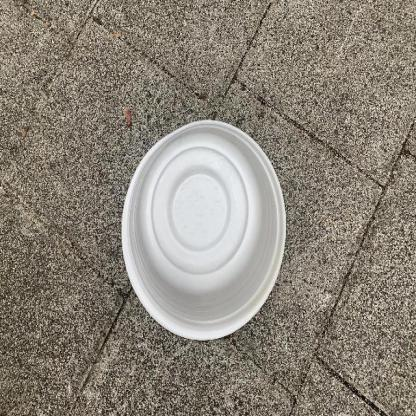Glass Cup: (123, 118, 287, 341), (122, 120, 286, 340)
